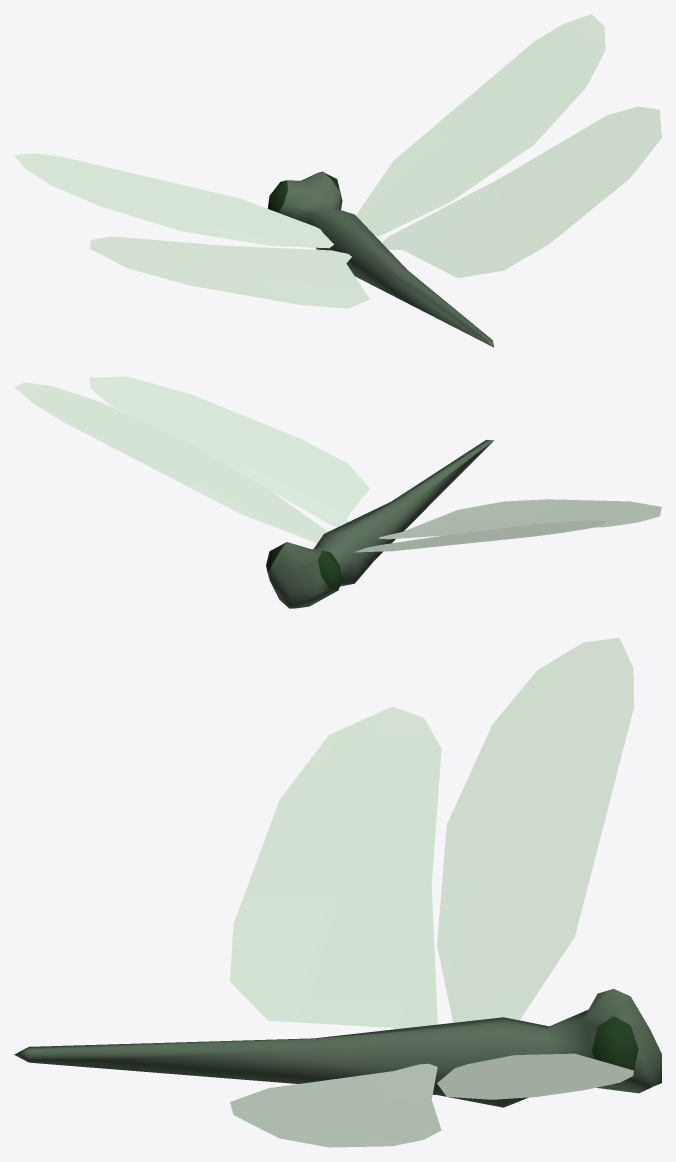
Rendered from animals-dragonfly-079.glb.
The picture shows the model from 3 angles, top to bottom: view 1: azimuth 30°, elevation 25°; view 2: azimuth 150°, elevation 25°; view 3: azimuth 270°, elevation 25°; orthographic projection. The views are drawn at different scales.
Visible parts, largest first — view 1: Dragonfly_3; view 2: Dragonfly_3; view 3: Dragonfly_3.
Boxes of the visible parts, x1=… form: Dragonfly_3: x1=14, y1=14, x2=661, y2=347; Dragonfly_3: x1=14, y1=376, x2=661, y2=608; Dragonfly_3: x1=14, y1=637, x2=661, y2=1147.
Size of the model in its own units: 0.2399 by 0.0616 by 0.1468.
1 material, 1 textured.
